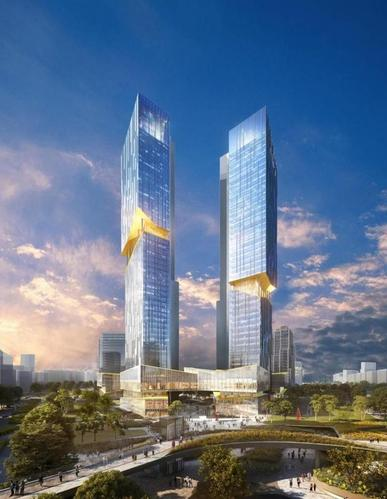buildings: (106, 98, 190, 431), (212, 110, 292, 396)
